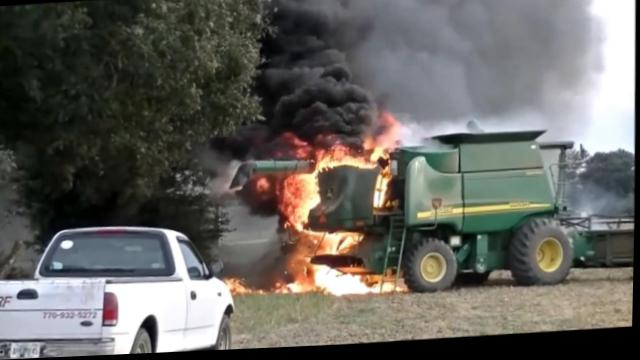fire: (279, 176, 318, 232), (316, 149, 374, 173), (287, 256, 315, 295), (332, 271, 370, 299), (315, 231, 361, 254), (372, 175, 390, 210), (372, 139, 387, 162), (225, 280, 246, 296), (315, 269, 331, 290), (369, 286, 395, 297)
